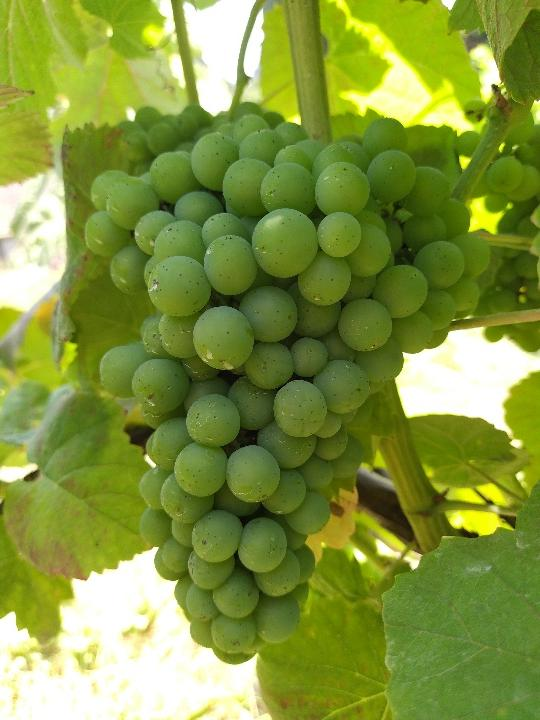grape: (84, 114, 488, 666)
